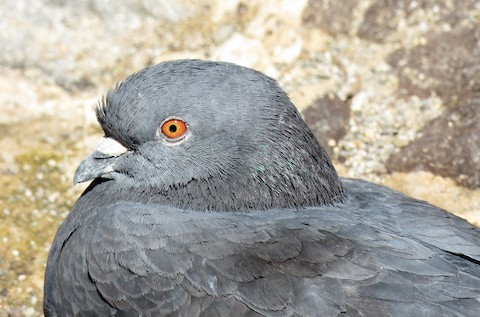pigeon: (39, 48, 459, 304)
